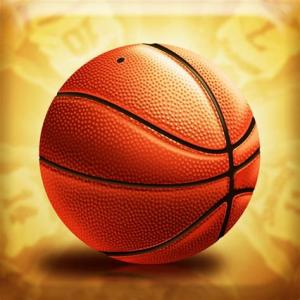Basket: (39, 42, 262, 264)
